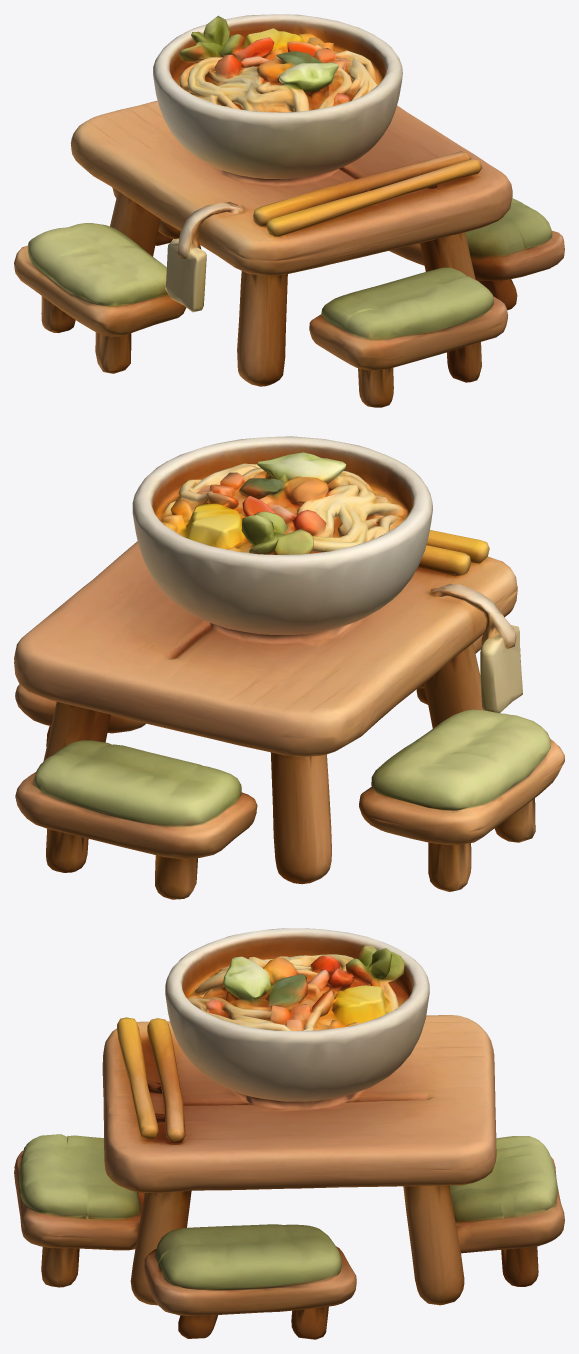
Rendered from curator.glb.
The picture shows the model from 3 angles, top to bottom: view 1: azimuth 30°, elevation 25°; view 2: azimuth 150°, elevation 25°; view 3: azimuth 270°, elevation 25°; orthographic projection. The views are drawn at different scales.
Visible parts, largest first — view 1: tripo_node_31b4c65d-6d26-463d-91f3-ad3bc270f19b; view 2: tripo_node_31b4c65d-6d26-463d-91f3-ad3bc270f19b; view 3: tripo_node_31b4c65d-6d26-463d-91f3-ad3bc270f19b.
Boxes of the visible parts, box(x1,y1,x2,y2) form: tripo_node_31b4c65d-6d26-463d-91f3-ad3bc270f19b: box(14, 14, 564, 407); tripo_node_31b4c65d-6d26-463d-91f3-ad3bc270f19b: box(14, 436, 564, 899); tripo_node_31b4c65d-6d26-463d-91f3-ad3bc270f19b: box(14, 928, 564, 1339).
Size of the model in its own units: 0.965 by 0.5645 by 0.9807.
1 material, 1 textured.
